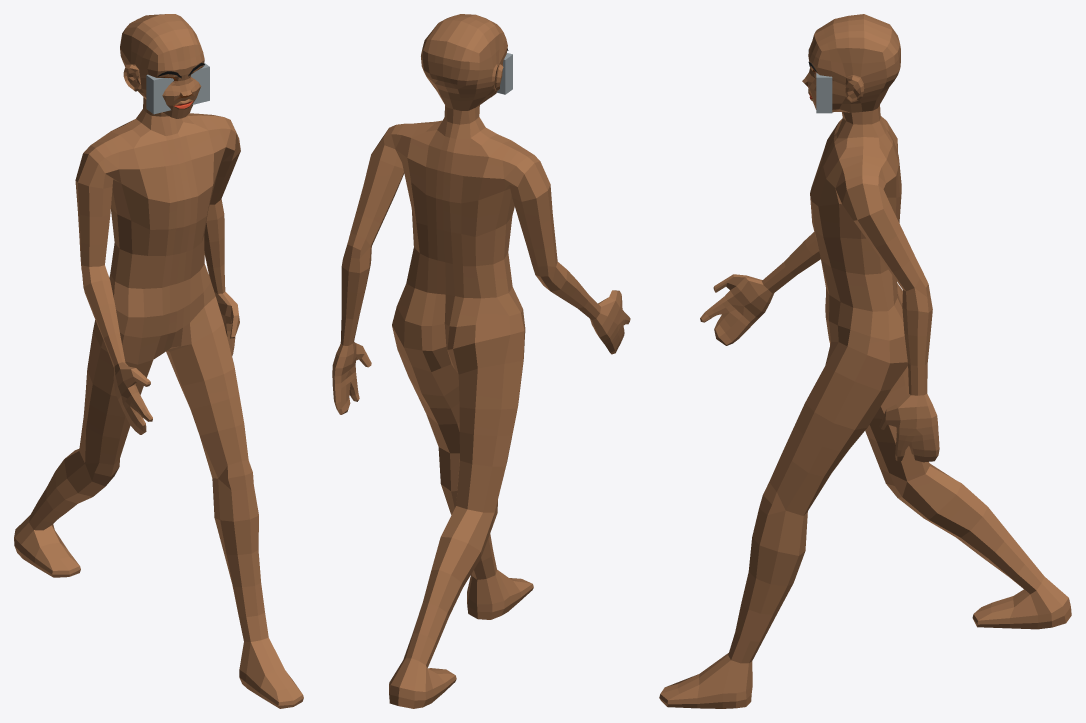
The model's file is Male_Walk_Mask.fbx.
3 renders of one model, left to right at view 1: azimuth 30°, elevation 25°; view 2: azimuth 150°, elevation 25°; view 3: azimuth 270°, elevation 25°, orthographic. The views are drawn at different scales.
Visible parts, largest first — view 1: Male_Walk_Mask; view 2: Male_Walk_Mask; view 3: Male_Walk_Mask.
Part boxes in pixels (bbox=[...]): Male_Walk_Mask: bbox=[14, 14, 303, 708]; Male_Walk_Mask: bbox=[332, 14, 630, 708]; Male_Walk_Mask: bbox=[659, 14, 1071, 708].
Size of the model in its own units: 0.3234 by 1.02 by 0.5758.
